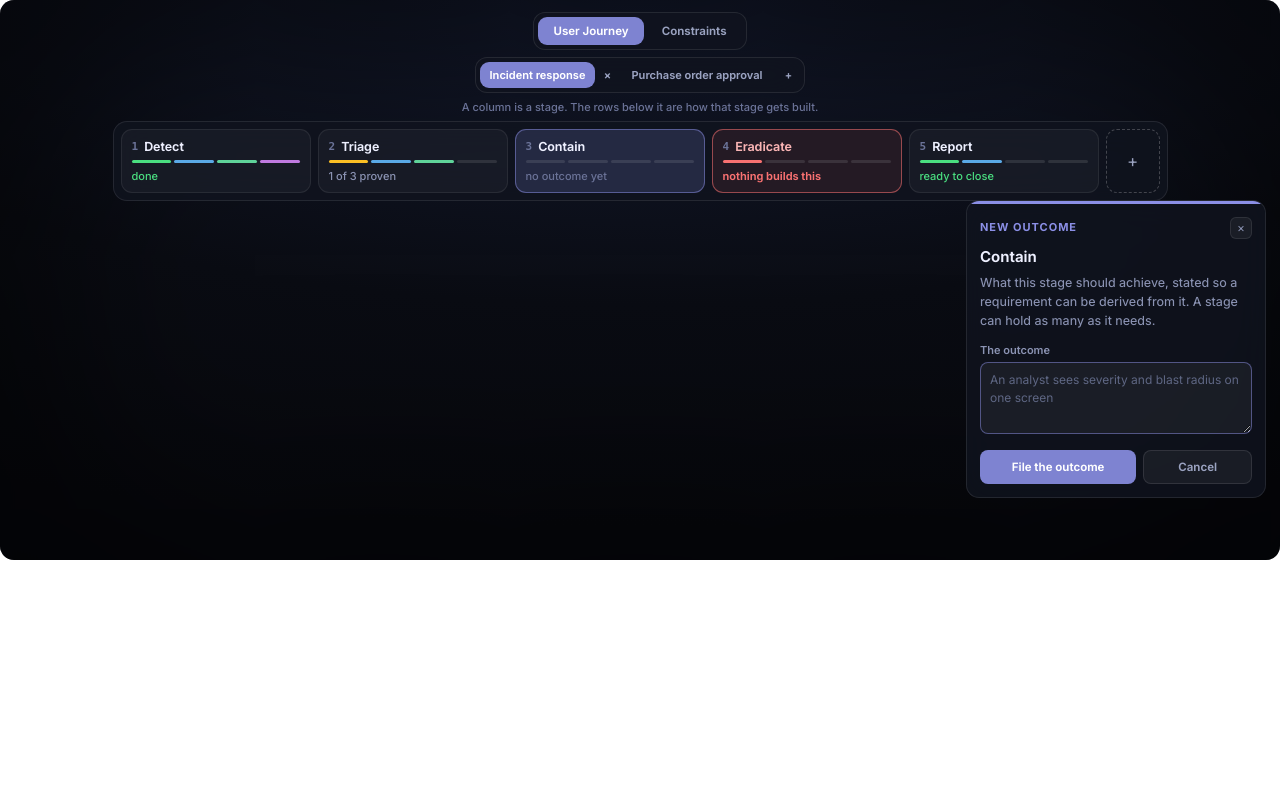
it: W · the strip edits the stages › a refusal from the database lands in the toast
Type "x" into the text box with test id "space-outcome-text" at (1116, 398), box [980, 362, 1252, 434]
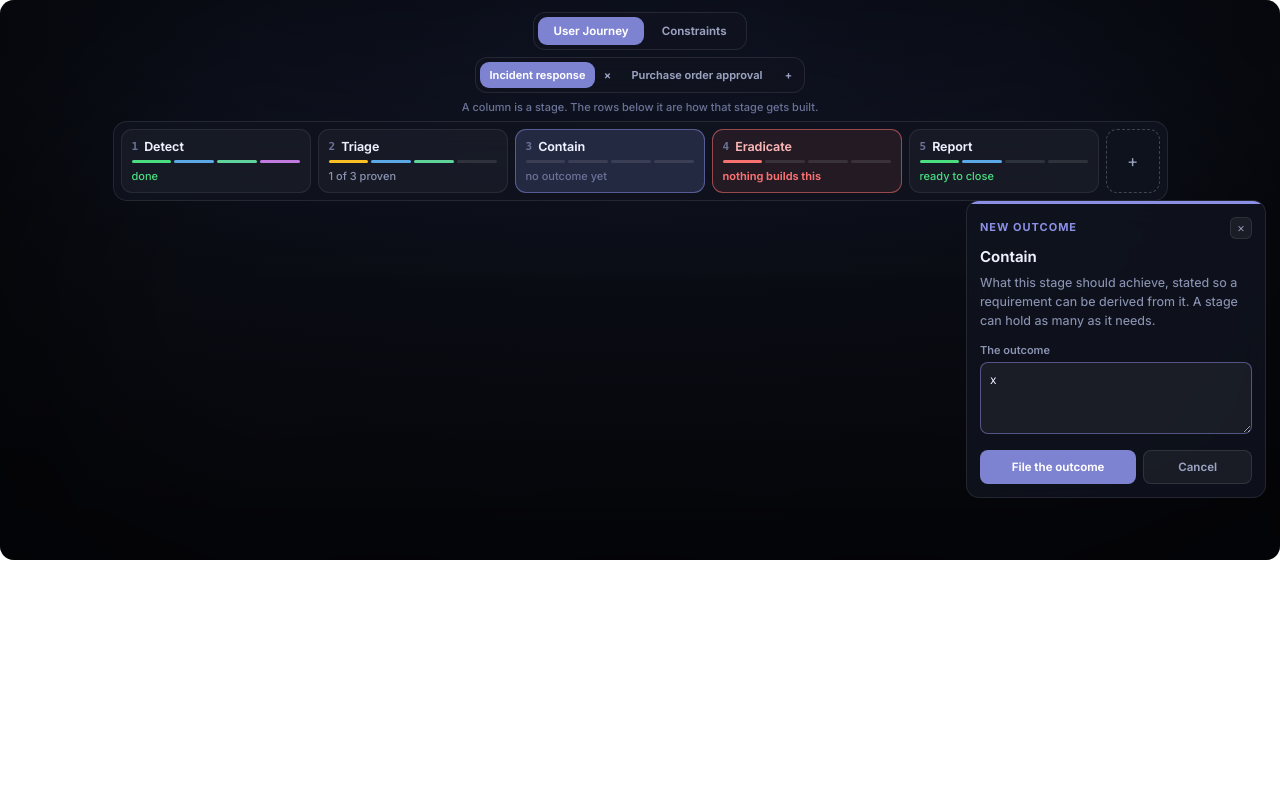
Click the button with test id "space-form-save" at (1058, 467), box [980, 450, 1136, 484]
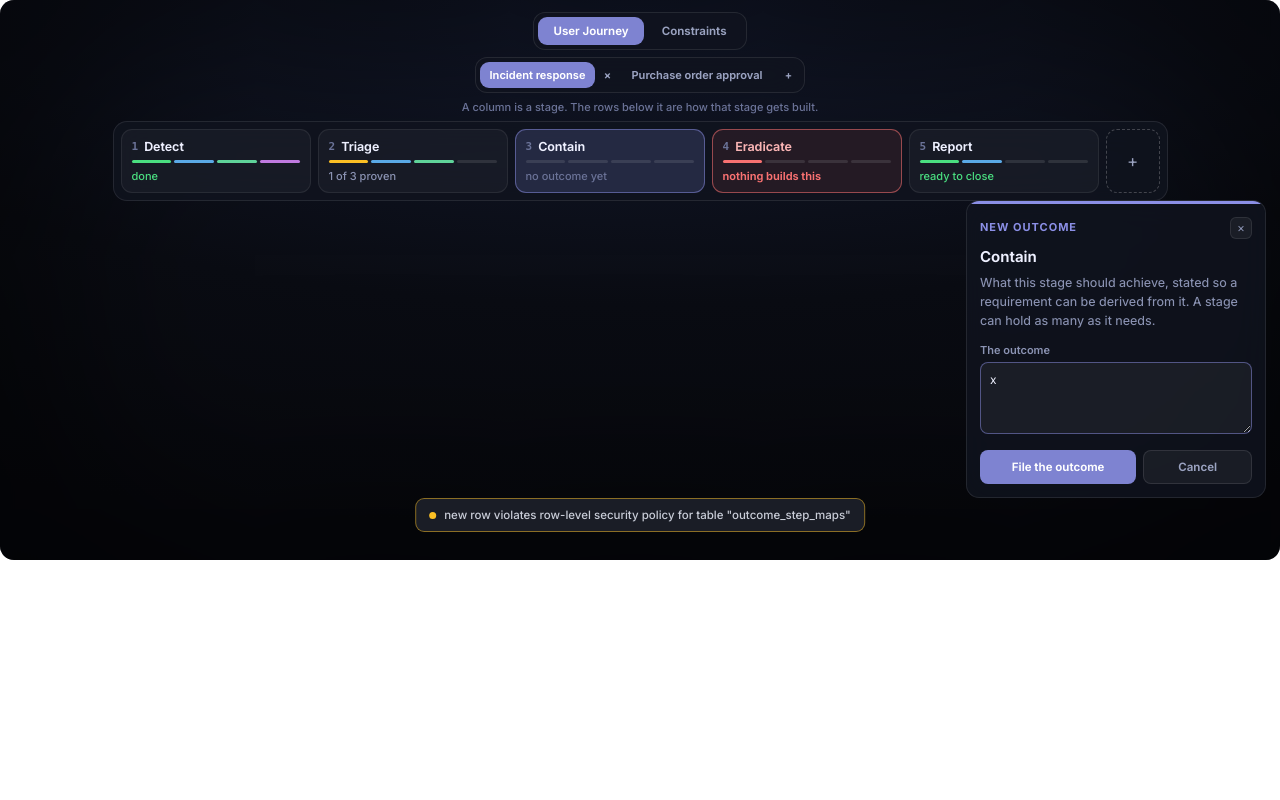
expect the message with test id "space-toast" shows "row-level security": met, box [444, 508, 851, 522]
